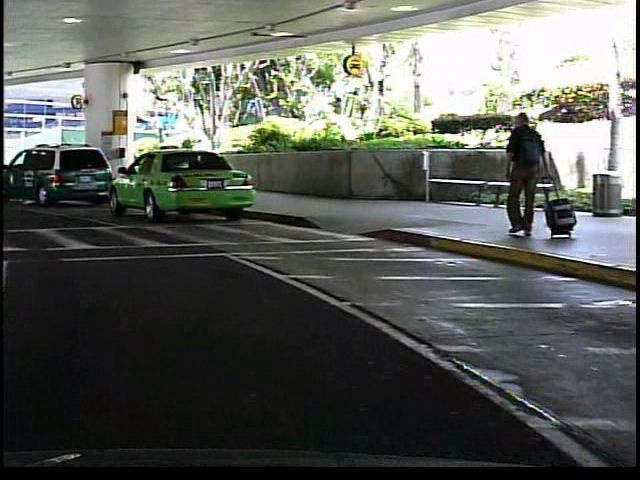person: (492, 108, 553, 246)
